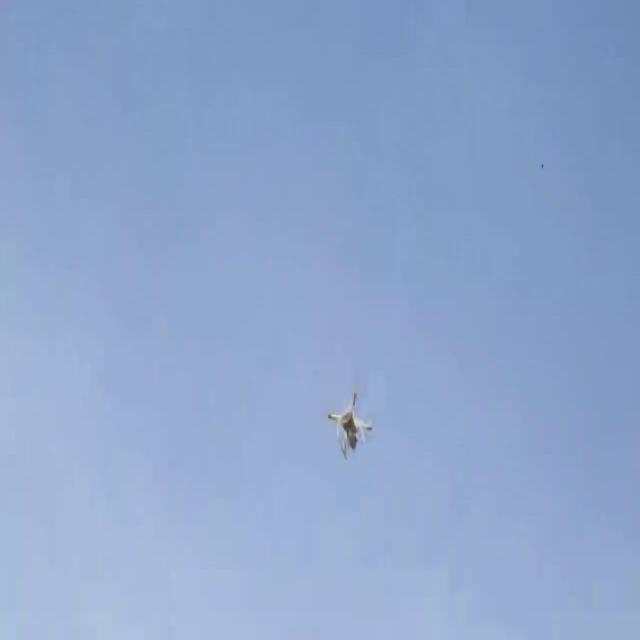drone: (270, 385, 416, 461)
